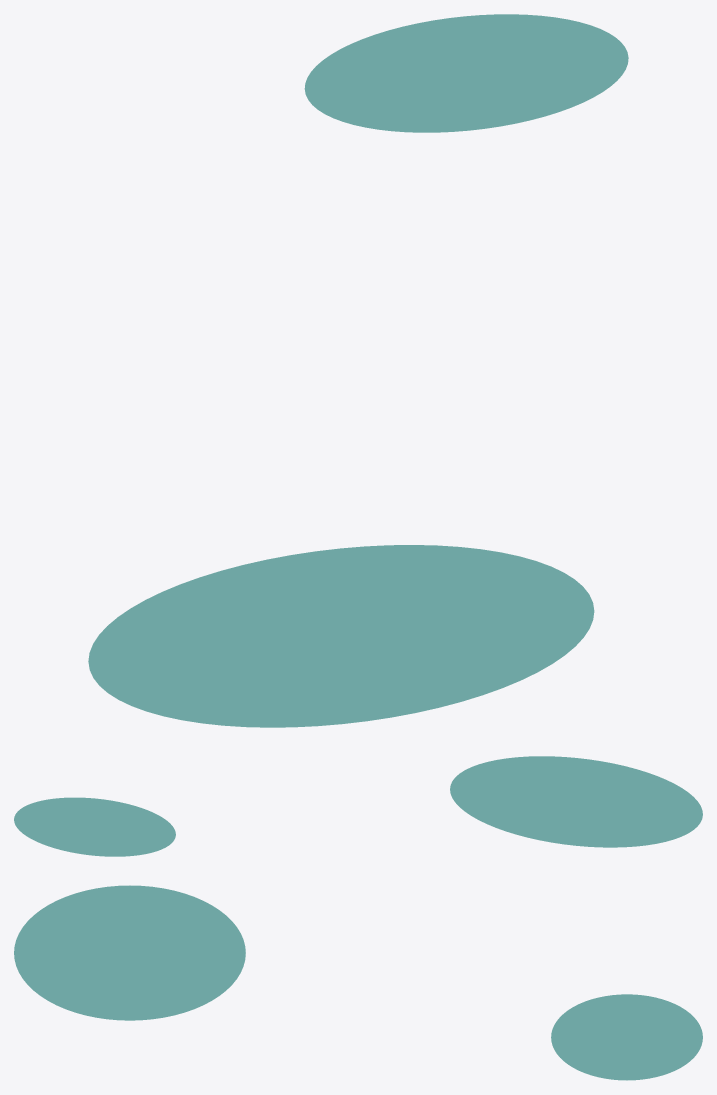
The model's file is SM_Water.fbx.
3 views of the same model, one above another, from view 1: azimuth 30°, elevation 25°; view 2: azimuth 150°, elevation 25°; view 3: azimuth 270°, elevation 25° (orthographic). The views are drawn at different scales.
Visible parts, largest first — view 1: SM_Water; view 2: SM_Water; view 3: SM_Water.
Boxes of the visible parts, x1,y1,x2,y2 form: SM_Water: (88,14,628,727); SM_Water: (14,756,702,856); SM_Water: (14,885,702,1080).
Size of the model in its own units: 3064 by 3326 by 390.
